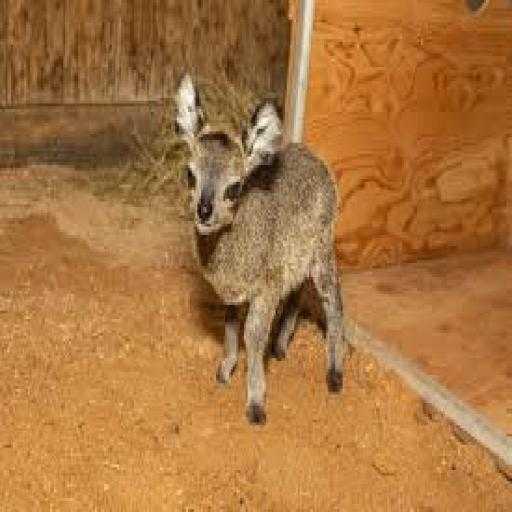deer: (158, 47, 364, 436)
